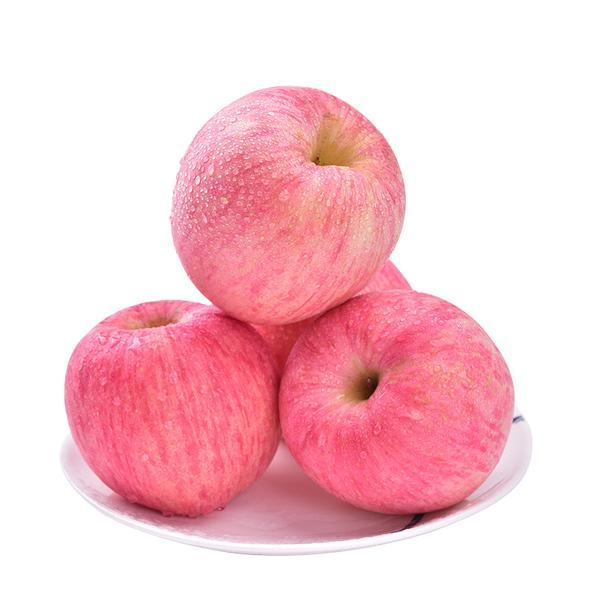apple: (169, 88, 407, 328), (279, 283, 513, 518), (63, 298, 287, 518)
